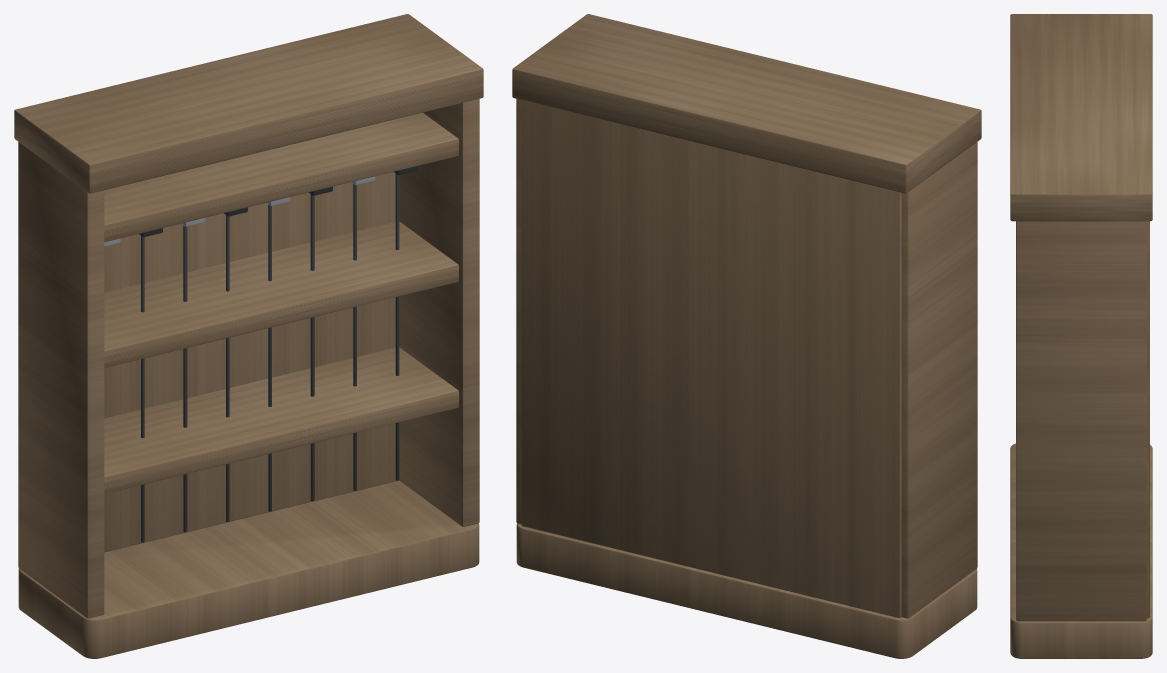
Rendered from golf_club_storage_premium.glb.
3 renders of one model, left to right at view 1: azimuth 30°, elevation 25°; view 2: azimuth 150°, elevation 25°; view 3: azimuth 270°, elevation 25°, orthographic. The views are drawn at different scales.
Visible parts, largest first — view 1: ClubStorage_Back, ClubStorage_Top, ClubStorage_Plinth, ClubStorage_Side_-1, ClubStorage_Shelf_2, ClubStorage_Shelf_1, ClubStorage_Side_1, ClubStorage_Shelf_3, StoredClub_Shaft_6, StoredClub_Shaft_3, StoredClub_Shaft_8, StoredClub_Shaft_4 (+3 smaller); view 2: ClubStorage_Back, ClubStorage_Top, ClubStorage_Side_-1, ClubStorage_Plinth, ClubStorage_Side_1; view 3: ClubStorage_Side_1, ClubStorage_Top, ClubStorage_Plinth, ClubStorage_Back.
Part boxes in pixels (x1=…): ClubStorage_Back: x1=104, y1=172, x2=398, y2=552; ClubStorage_Top: x1=14, y1=14, x2=483, y2=193; ClubStorage_Plinth: x1=18, y1=480, x2=479, y2=658; ClubStorage_Side_-1: x1=18, y1=142, x2=104, y2=618; ClubStorage_Shelf_2: x1=104, y1=221, x2=458, y2=367; ClubStorage_Shelf_1: x1=104, y1=347, x2=458, y2=493; ClubStorage_Side_1: x1=399, y1=99, x2=479, y2=526; ClubStorage_Shelf_3: x1=104, y1=112, x2=458, y2=242; StoredClub_Shaft_6: x1=310, y1=194, x2=314, y2=501; StoredClub_Shaft_3: x1=183, y1=225, x2=187, y2=532; StoredClub_Shaft_8: x1=395, y1=174, x2=399, y2=480; StoredClub_Shaft_4: x1=226, y1=215, x2=229, y2=521; ClubStorage_Back: x1=521, y1=100, x2=901, y2=617; ClubStorage_Top: x1=512, y1=14, x2=981, y2=193; ClubStorage_Side_-1: x1=901, y1=142, x2=977, y2=618; ClubStorage_Plinth: x1=516, y1=523, x2=977, y2=658; ClubStorage_Side_1: x1=516, y1=99, x2=521, y2=524; ClubStorage_Side_1: x1=1016, y1=221, x2=1146, y2=621; ClubStorage_Top: x1=1010, y1=14, x2=1152, y2=221; ClubStorage_Plinth: x1=1010, y1=443, x2=1152, y2=658; ClubStorage_Back: x1=1147, y1=221, x2=1149, y2=618.
Size of what is drawn, in the model's own units: 1.68 by 2.02 by 0.56.
Materials: 4 (1 with a texture image).
